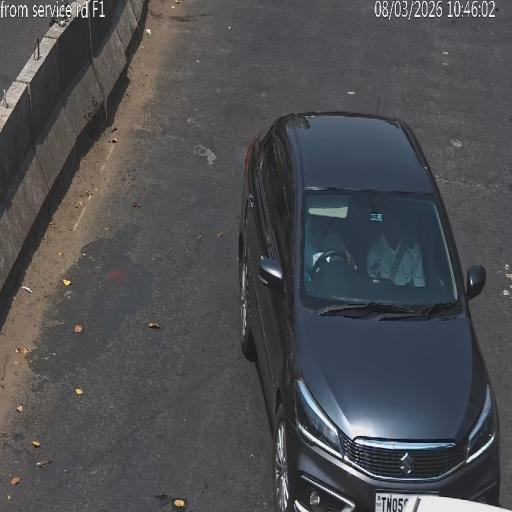person_with_seatbelt: (384, 231, 416, 286), (305, 220, 331, 269)
